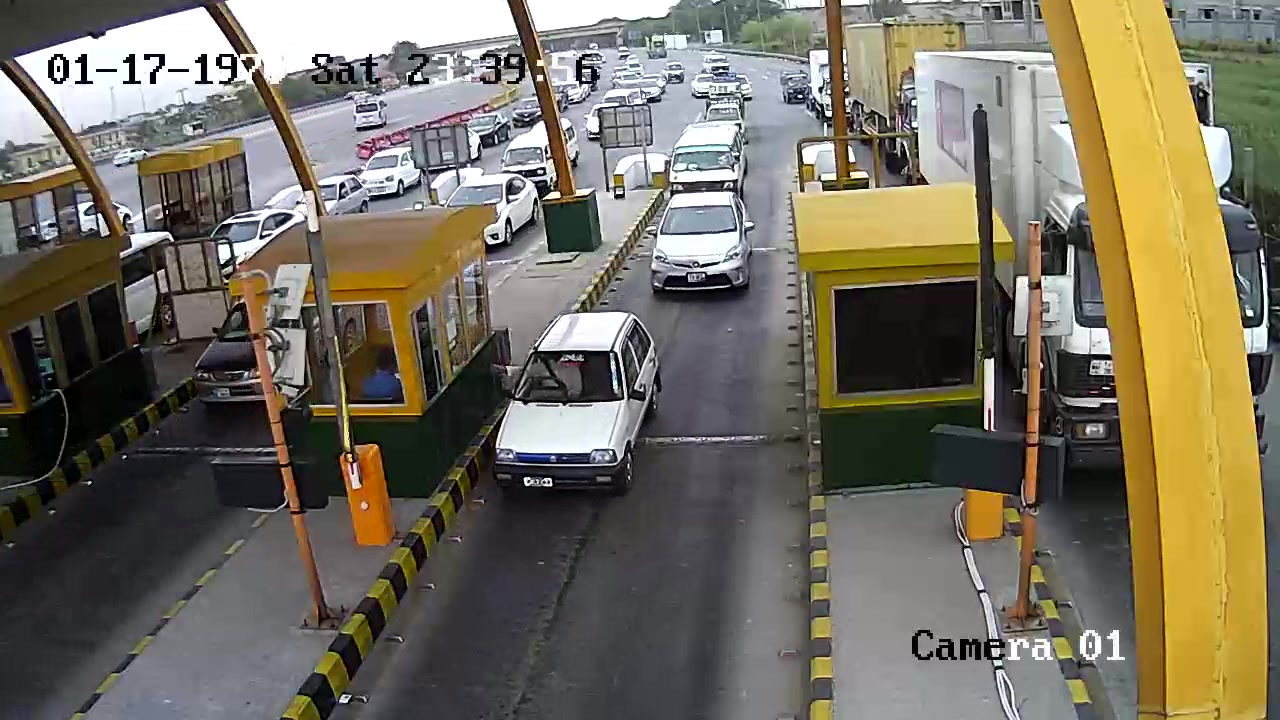F1: (484, 311, 688, 512)
